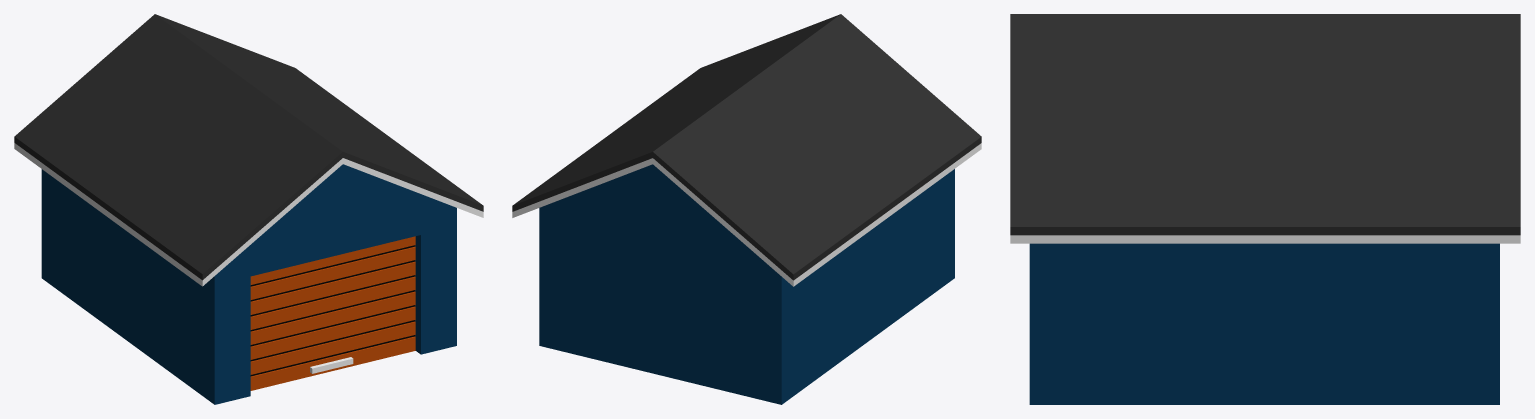
Rendered from Garage-01b.fbx.
3 renders of one model, left to right at view 1: azimuth 30°, elevation 25°; view 2: azimuth 150°, elevation 25°; view 3: azimuth 270°, elevation 25°, orthographic. The views are drawn at different scales.
Parts seen in each view (by area): view 1: Garage-01; view 2: Garage-01; view 3: Garage-01.
Boxes of the visible parts, x1=… form: Garage-01: x1=14, y1=14, x2=483, y2=404; Garage-01: x1=512, y1=14, x2=981, y2=404; Garage-01: x1=1010, y1=14, x2=1520, y2=404.
Size of what is drawn, in the model's own units: 6.24 by 4.86 by 7.24.
